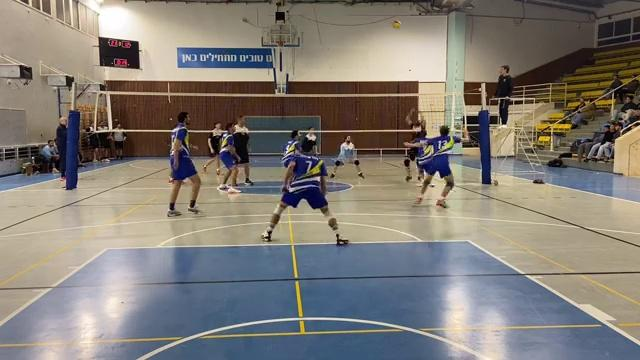ball: (392, 19, 402, 31)
